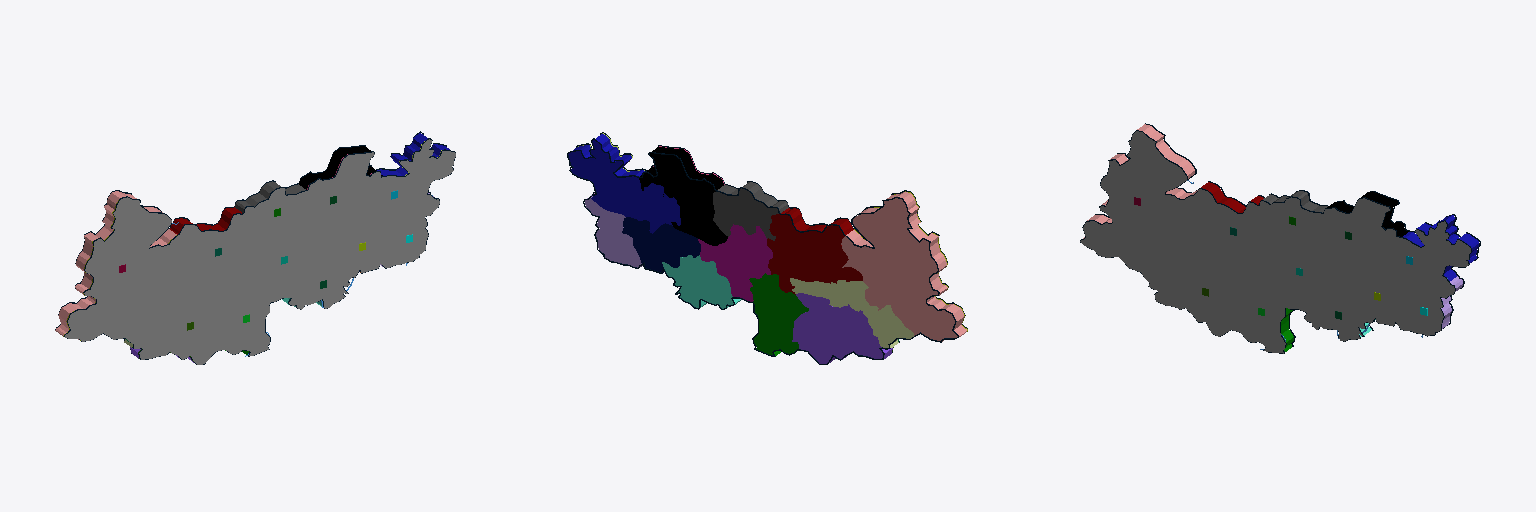
File: deqing16.obj
The picture shows the model from 3 angles: view 1: azimuth 30°, elevation 25°; view 2: azimuth 150°, elevation 25°; view 3: azimuth 330°, elevation 25°; orthographic projection.
Parts seen in each view (by area): view 1: texture, [number redacted]_bottom, top_border, [number redacted]_bottom, [number redacted]_bottom, [number redacted]_bottom, [number redacted]_bottom; view 2: [number redacted]_bottom, [number redacted]_bottom, [number redacted]_bottom, [number redacted]_bottom, [number redacted]_bottom, [number redacted]_bottom, [number redacted]_bottom, [number redacted]_bottom, [number redacted]_bottom, [number redacted]_bottom, [number redacted]_bottom, bottom_border (+1 smaller); view 3: texture, [number redacted]_bottom, top_border, [number redacted]_bottom, [number redacted]_bottom, bottom_border.
Part boxes in pixels (x1,y1,x2,y2): texture: (65, 139, 455, 364); [number redacted]_bottom: (55, 191, 176, 339); top_border: (64, 138, 455, 364); [number redacted]_bottom: (299, 146, 382, 189); [number redacted]_bottom: (377, 133, 449, 175); [number redacted]_bottom: (235, 181, 305, 212); [number redacted]_bottom: (170, 207, 241, 234); [number redacted]_bottom: (841, 192, 966, 341); [number redacted]_bottom: (767, 208, 862, 294); [number redacted]_bottom: (568, 134, 680, 233); [number redacted]_bottom: (792, 293, 892, 363); [number redacted]_bottom: (639, 147, 727, 245); [number redacted]_bottom: (698, 224, 772, 301); [number redacted]_bottom: (749, 273, 808, 355); [number redacted]_bottom: (790, 278, 913, 347); [number redacted]_bottom: (713, 182, 787, 240); [number redacted]_bottom: (622, 217, 700, 273); [number redacted]_bottom: (662, 255, 741, 308); bottom_border: (567, 138, 958, 364); texture: (1080, 131, 1470, 353); [number redacted]_bottom: (1083, 124, 1197, 238); top_border: (1080, 130, 1471, 353); [number redacted]_bottom: (1403, 215, 1478, 280); [number redacted]_bottom: (1327, 191, 1408, 236); bottom_border: (1095, 123, 1480, 346).
Size of the model in its own units: 84.48 by 39.16 by 3.63.